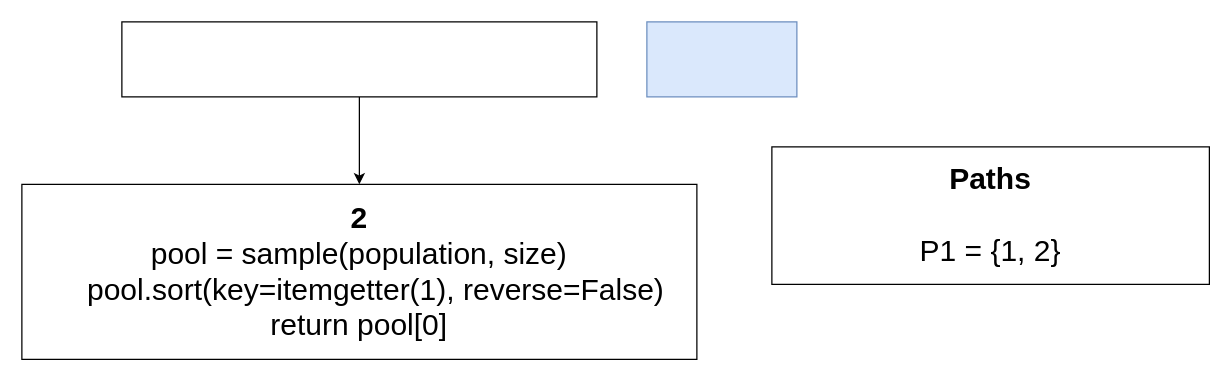
The diagram is 1231 pixels wide and 381 high, and some of its shapes have lost their labels. Each missing label, with the centre of its shape:
1 - def one_tour(population,size):: the point at 359,59
Vg = 1: the point at 721,59
